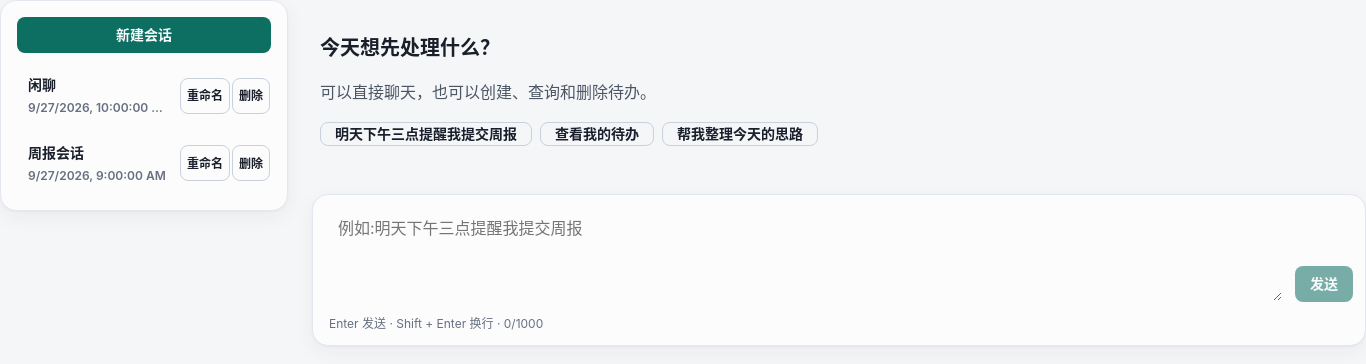
Test case: loads the sidebar and switches the panel to the selected session
The image size is (1366, 364).
Expected: the text "闲聊" is shown, [28,76,56,93]
Expected: the text "周报会话" is shown, [28,144,84,161]
What coordinates should you click on to do the following:
click the button "闲聊 9/27/2026, 10:00:00 AM"
I would click on:
 (97, 96)
Its box is [18,66,176,126].
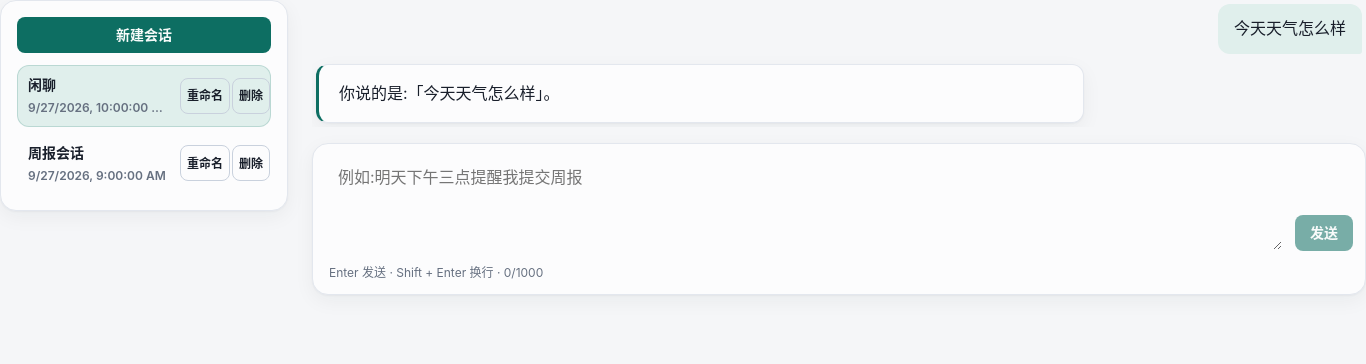
Result: the text "你说的是:「今天天气怎么样」。" is shown at [339,83,560,103]
